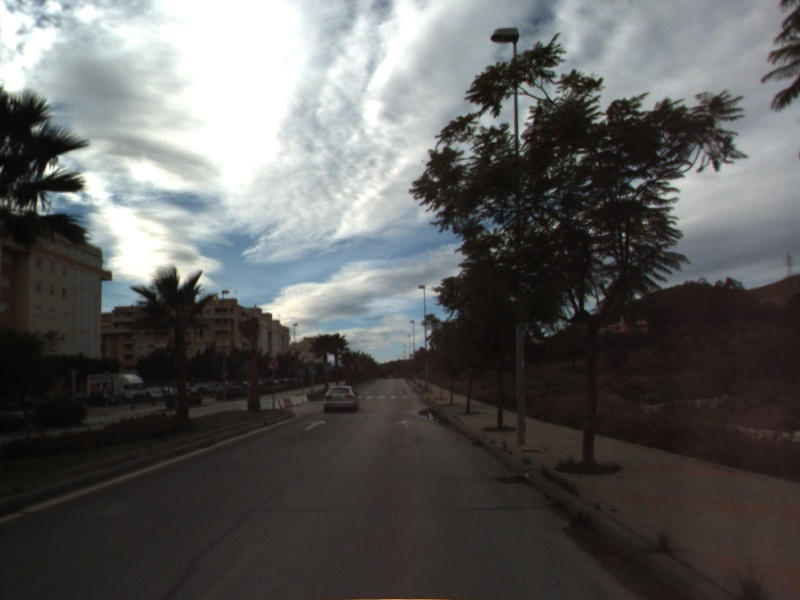STRAIGHT: (303, 418, 329, 432)
